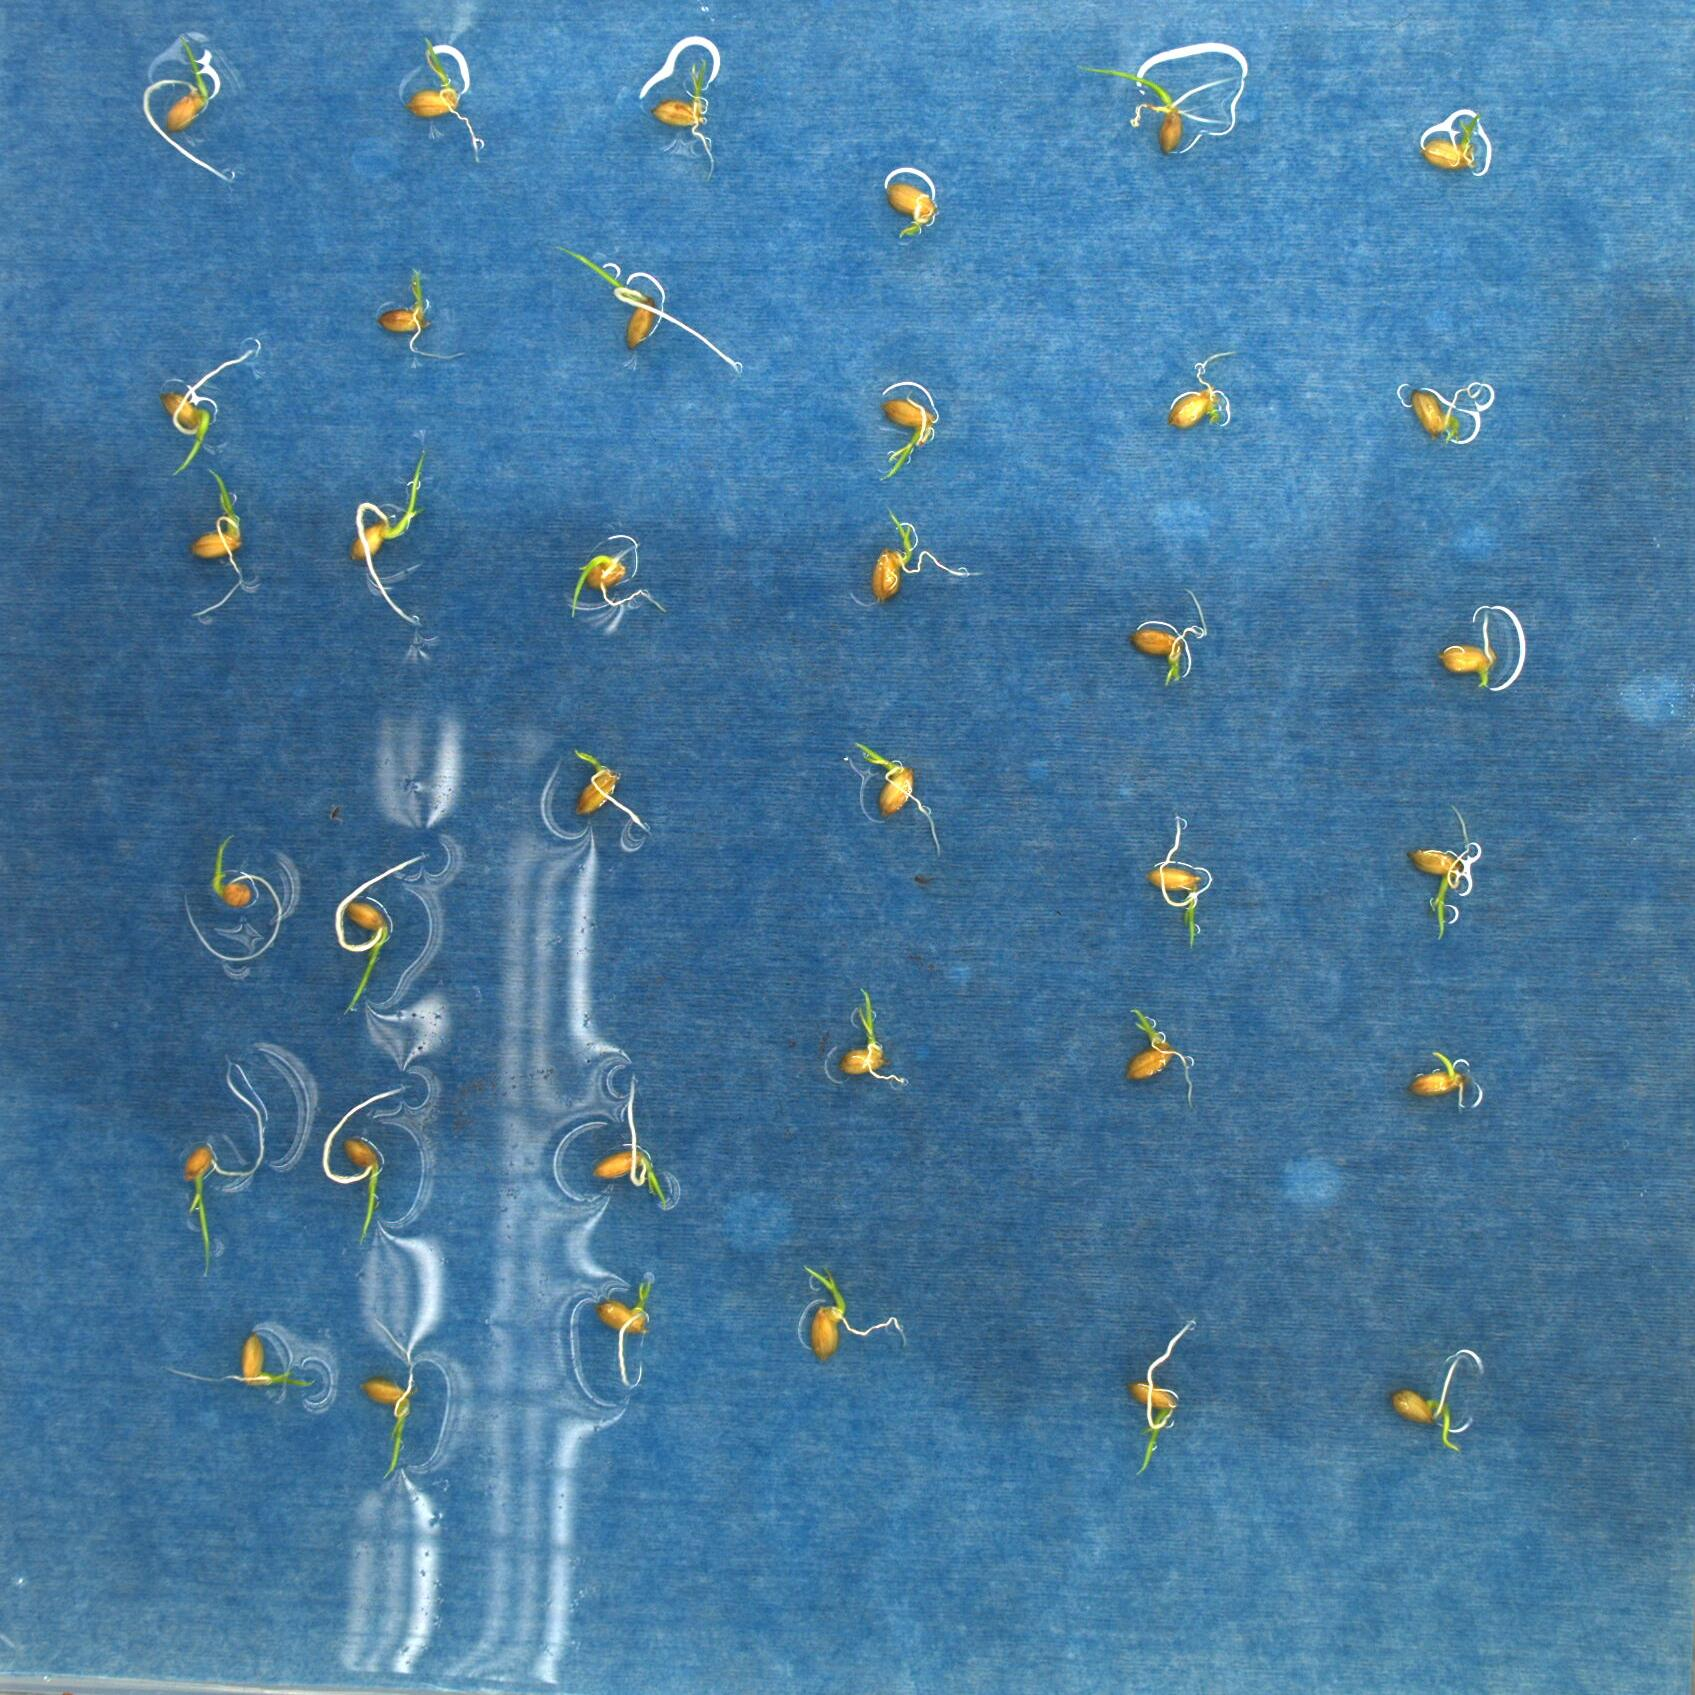not sprout: (1428, 598, 1513, 706), (366, 264, 456, 366), (1158, 337, 1242, 438), (1411, 118, 1485, 189), (875, 168, 947, 236)
sprout: (539, 241, 744, 369), (324, 837, 438, 1040), (147, 830, 304, 972), (324, 413, 425, 627), (309, 1076, 421, 1263), (1060, 64, 1256, 160), (144, 3, 241, 189), (1124, 782, 1225, 951), (348, 1309, 433, 1499), (154, 328, 261, 473), (565, 1077, 688, 1205), (175, 1136, 278, 1288), (1118, 1310, 1208, 1478), (397, 29, 504, 165), (557, 518, 667, 649), (846, 730, 947, 860), (860, 503, 973, 615), (781, 1256, 905, 1357), (587, 1262, 674, 1400), (1400, 799, 1482, 945), (636, 26, 747, 130), (1388, 354, 1504, 452), (1394, 1336, 1487, 1454), (183, 467, 259, 612), (824, 975, 913, 1097), (1122, 594, 1218, 698), (875, 368, 955, 481), (160, 1333, 298, 1397), (1118, 1007, 1200, 1108), (1405, 1029, 1496, 1108), (556, 739, 638, 826)
